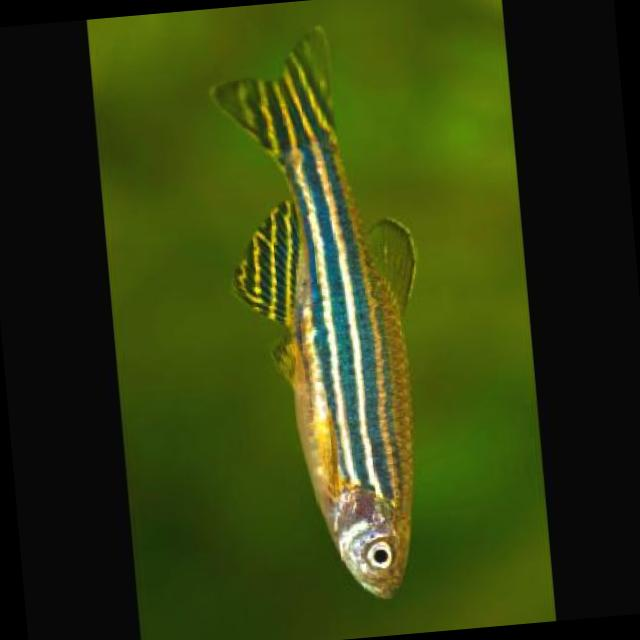ZebraFish: (205, 19, 446, 608)
